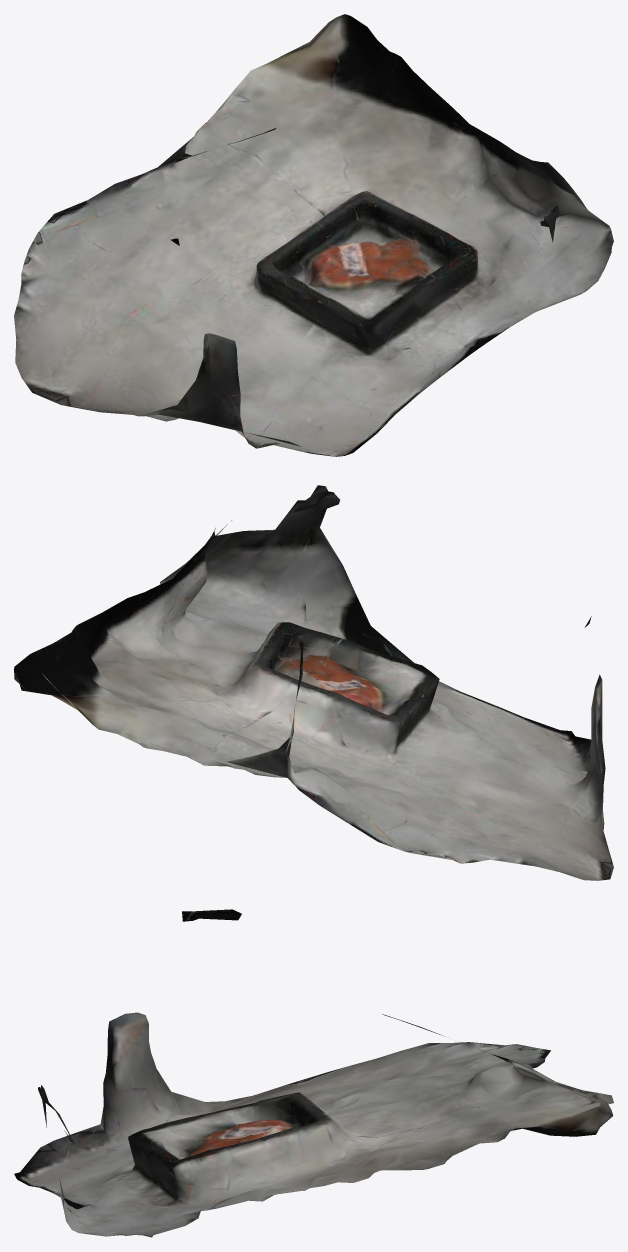
Rendered from hall.glb.
3 views of the same model, one above another, from view 1: azimuth 30°, elevation 25°; view 2: azimuth 150°, elevation 25°; view 3: azimuth 270°, elevation 25° (orthographic). The views are drawn at different scales.
Bounding box in the file's own units: 1.4 × 0.5066 × 1.27.
Materials: 1 (1 with a texture image).
